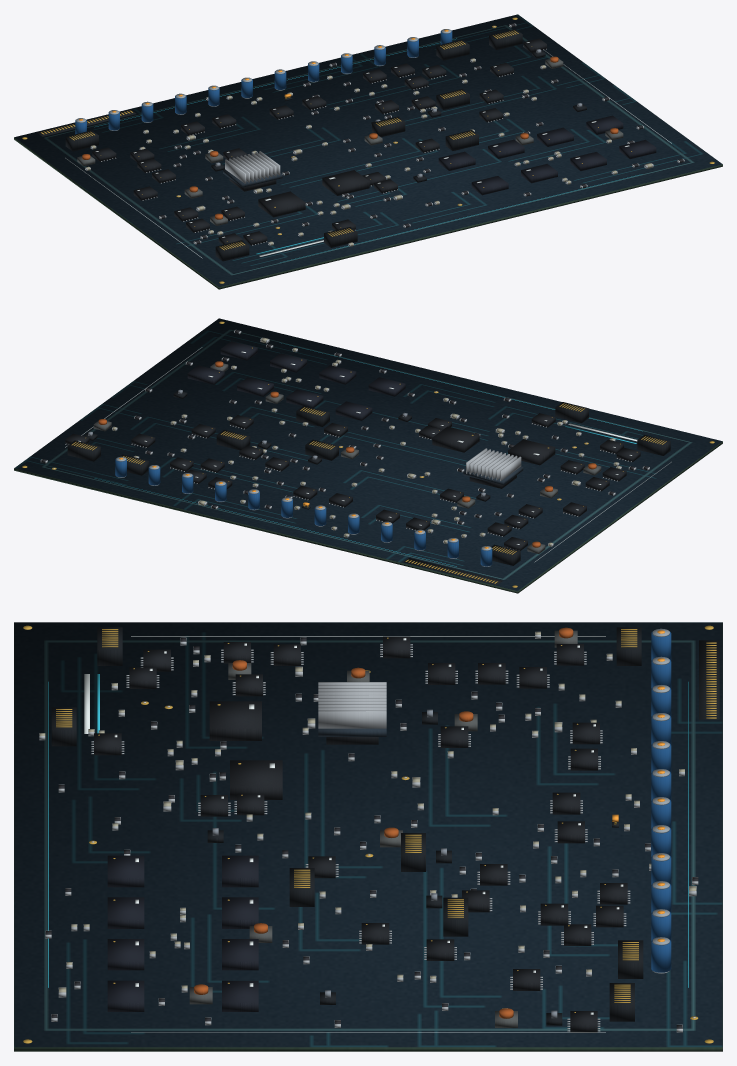
Rendered from 257_L116_AssembledReference.obj.
The picture shows the model from 3 angles, top to bottom: view 1: azimuth 30°, elevation 25°; view 2: azimuth 150°, elevation 25°; view 3: azimuth 270°, elevation 25°; orthographic projection. The views are drawn at different scales.
Visible parts, largest first — view 1: L116_1473__PSMAT__PCB_Carbon, L116_1472__PSMAT__FR4_Core, L116_054__PSMAT__IC_MatteBlack, L116_138__PSMAT__IC_MatteBlack, L116_1330__PSMAT__Connector_Polymer, L116_1352__PSMAT__Connector_Polymer, L116_1374__PSMAT__Connector_Polymer, L116_1385__PSMAT__Connector_Polymer, L116_1341__PSMAT__Connector_Polymer, L116_1396__PSMAT__Connector_Polymer, L116_1407__PSMAT__Connector_Polymer, L116_1363__PSMAT__Connector_Polymer (+8 smaller); view 2: L116_1473__PSMAT__PCB_Carbon, L116_1472__PSMAT__FR4_Core, L116_138__PSMAT__IC_MatteBlack, L116_054__PSMAT__IC_MatteBlack, L116_1482__PSMAT__Connector_Polymer, L116_1330__PSMAT__Connector_Polymer, L116_1407__PSMAT__Connector_Polymer, L116_1352__PSMAT__Connector_Polymer, L116_1363__PSMAT__Connector_Polymer, L116_1396__PSMAT__Connector_Polymer, L116_1374__PSMAT__Connector_Polymer, L116_595__PSMAT__NAND_Epoxy (+8 smaller); view 3: L116_1473__PSMAT__PCB_Carbon, L116_1472__PSMAT__FR4_Core, L116_054__PSMAT__IC_MatteBlack, L116_138__PSMAT__IC_MatteBlack, L116_1482__PSMAT__Connector_Polymer, L116_1525__PSMAT__Aluminum_Brushed, L116_552__PSMAT__NAND_Epoxy, L116_724__PSMAT__NAND_Epoxy, L116_595__PSMAT__NAND_Epoxy, L116_638__PSMAT__NAND_Epoxy, L116_681__PSMAT__NAND_Epoxy, L116_810__PSMAT__NAND_Epoxy (+10 smaller).
Part boxes in pixels (bbox=[...]): L116_1473__PSMAT__PCB_Carbon: bbox=[14, 14, 722, 286]; L116_1472__PSMAT__FR4_Core: bbox=[14, 23, 722, 289]; L116_054__PSMAT__IC_MatteBlack: bbox=[258, 191, 305, 217]; L116_138__PSMAT__IC_MatteBlack: bbox=[322, 170, 369, 195]; L116_1330__PSMAT__Connector_Polymer: bbox=[215, 240, 249, 261]; L116_1352__PSMAT__Connector_Polymer: bbox=[489, 29, 522, 49]; L116_1374__PSMAT__Connector_Polymer: bbox=[436, 89, 469, 109]; L116_1385__PSMAT__Connector_Polymer: bbox=[436, 39, 469, 60]; L116_1341__PSMAT__Connector_Polymer: bbox=[65, 130, 98, 151]; L116_1396__PSMAT__Connector_Polymer: bbox=[445, 130, 478, 150]; L116_1407__PSMAT__Connector_Polymer: bbox=[324, 227, 357, 247]; L116_1363__PSMAT__Connector_Polymer: bbox=[372, 116, 405, 137]; L116_1473__PSMAT__PCB_Carbon: bbox=[14, 318, 722, 590]; L116_1472__PSMAT__FR4_Core: bbox=[14, 327, 722, 593]; L116_138__PSMAT__IC_MatteBlack: bbox=[432, 426, 479, 452]; L116_054__PSMAT__IC_MatteBlack: bbox=[508, 439, 555, 465]; L116_1482__PSMAT__Connector_Polymer: bbox=[403, 558, 502, 584]; L116_1330__PSMAT__Connector_Polymer: bbox=[637, 435, 670, 455]; L116_1407__PSMAT__Connector_Polymer: bbox=[555, 402, 588, 422]; L116_1352__PSMAT__Connector_Polymer: bbox=[67, 440, 100, 461]; L116_1363__PSMAT__Connector_Polymer: bbox=[305, 439, 338, 460]; L116_1396__PSMAT__Connector_Polymer: bbox=[296, 406, 329, 426]; L116_1374__PSMAT__Connector_Polymer: bbox=[216, 430, 250, 450]; L116_595__PSMAT__NAND_Epoxy: bbox=[319, 365, 356, 384]; L116_1473__PSMAT__PCB_Carbon: bbox=[14, 622, 722, 1047]; L116_1472__PSMAT__FR4_Core: bbox=[14, 622, 722, 1051]; L116_054__PSMAT__IC_MatteBlack: bbox=[209, 701, 261, 740]; L116_138__PSMAT__IC_MatteBlack: bbox=[230, 760, 282, 799]; L116_1482__PSMAT__Connector_Polymer: bbox=[699, 640, 719, 719]; L116_1525__PSMAT__Aluminum_Brushed: bbox=[318, 710, 386, 728]; L116_552__PSMAT__NAND_Epoxy: bbox=[107, 855, 144, 887]; L116_724__PSMAT__NAND_Epoxy: bbox=[222, 855, 258, 887]; L116_595__PSMAT__NAND_Epoxy: bbox=[107, 897, 144, 928]; L116_638__PSMAT__NAND_Epoxy: bbox=[107, 939, 144, 970]; L116_681__PSMAT__NAND_Epoxy: bbox=[107, 980, 144, 1011]; L116_810__PSMAT__NAND_Epoxy: bbox=[222, 939, 258, 970].
Bounding box in the file's own units: 0.44 × 0.0195 × 0.31.
Materials: 21 (21 with a texture image).
